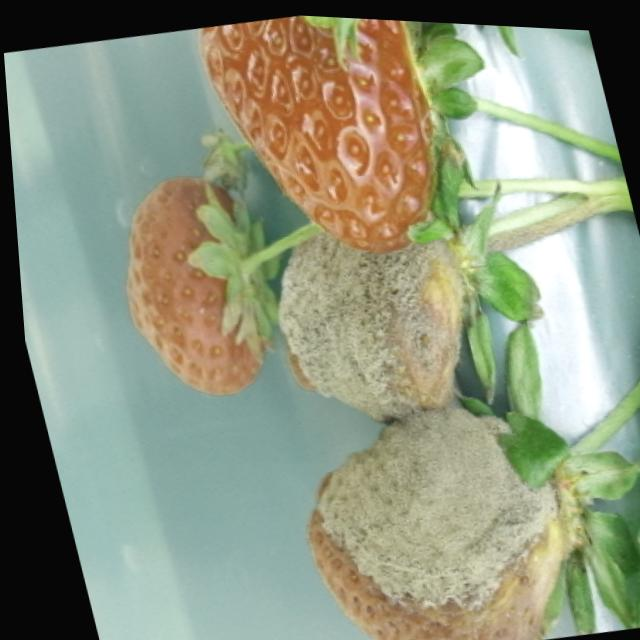Gray Mold: (302, 393, 556, 612), (270, 226, 468, 416)
